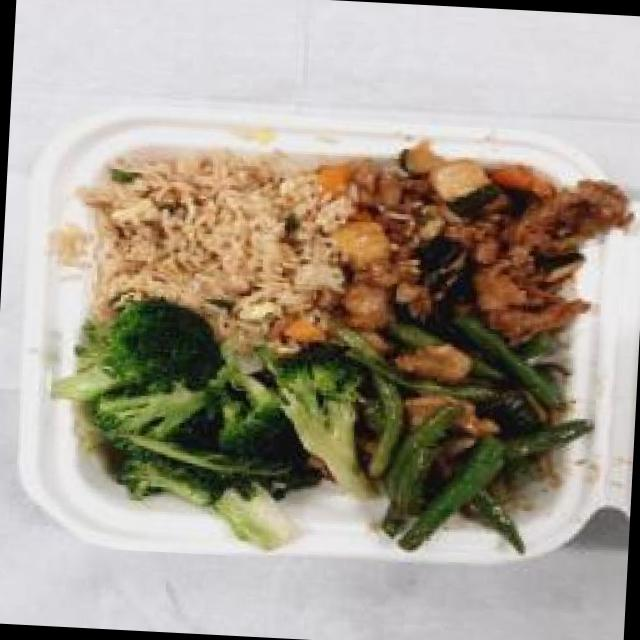Fried Rice: (77, 142, 341, 330)
Kung Pao Chicken: (322, 143, 606, 342)
String Bean Chicken Breast: (332, 309, 586, 536)
Super Greens: (56, 304, 335, 538)
